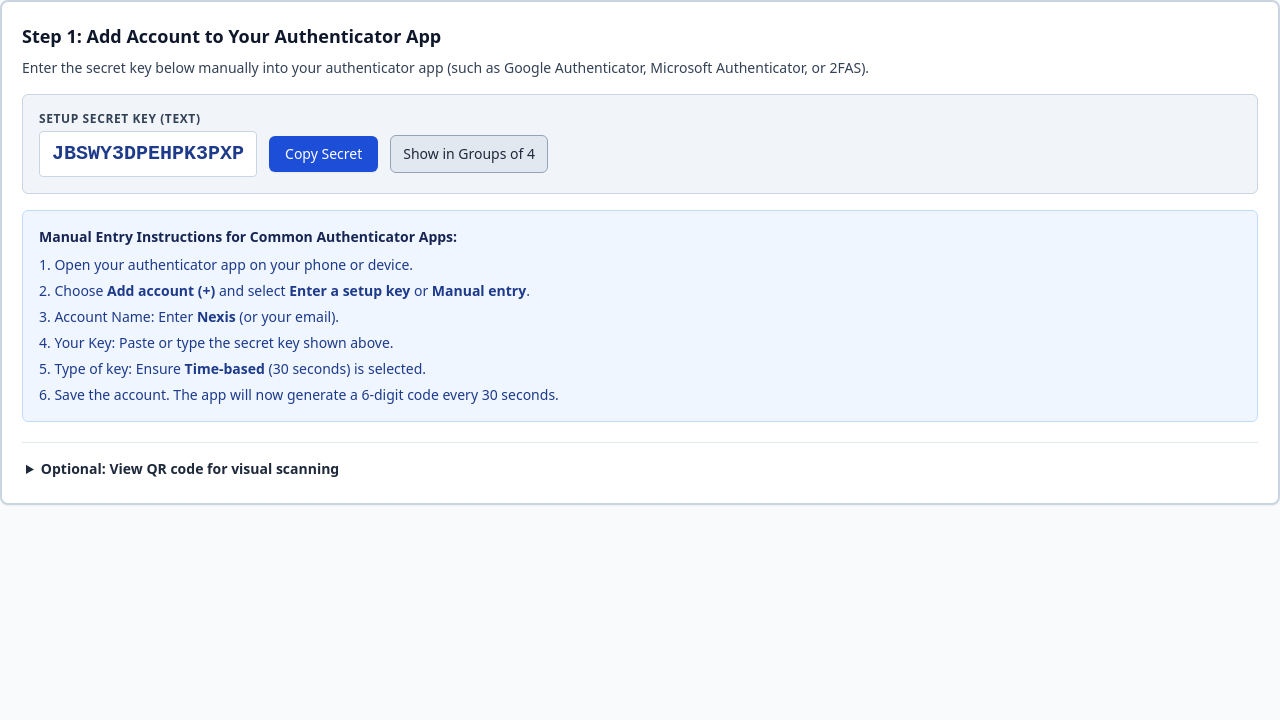
Accessible UI Components › SecretDisplay shows text secret first with copy button and grouped view
Expected: the text "JBSWY3DPEHPK3PXP" is shown, left=39, top=131, right=257, bottom=177
# Toggle grouped view
What coordinates should you click on to do the following:
click the button "Show in Groups of 4"
I would click on:
 (469, 154)
Its box is left=390, top=135, right=548, bottom=173.
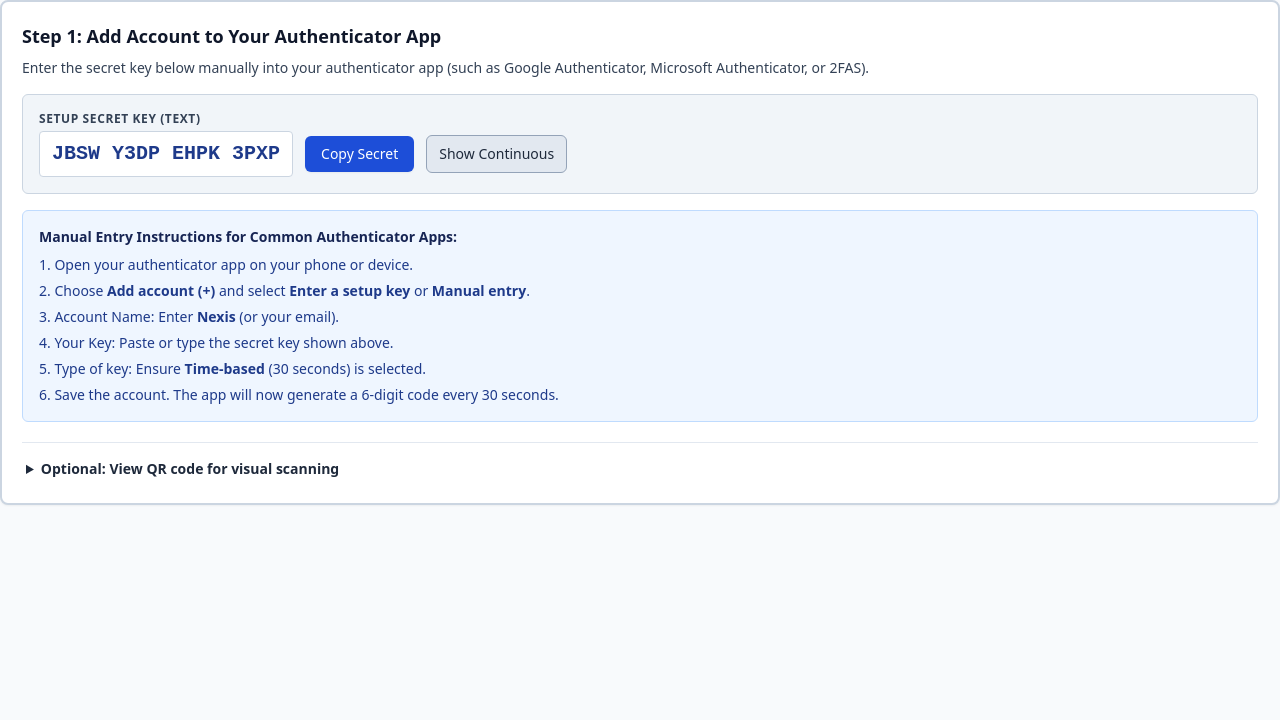
Expected: the button with aria-label "Copy secret key to clipboard" is shown, left=305, top=136, right=414, bottom=172
Result: the text "JBSW Y3DP EHPK 3PXP" is shown at left=39, top=131, right=293, bottom=177
